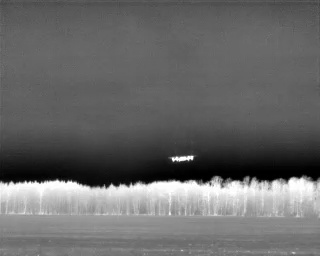DRONE: (165, 150, 199, 167)
